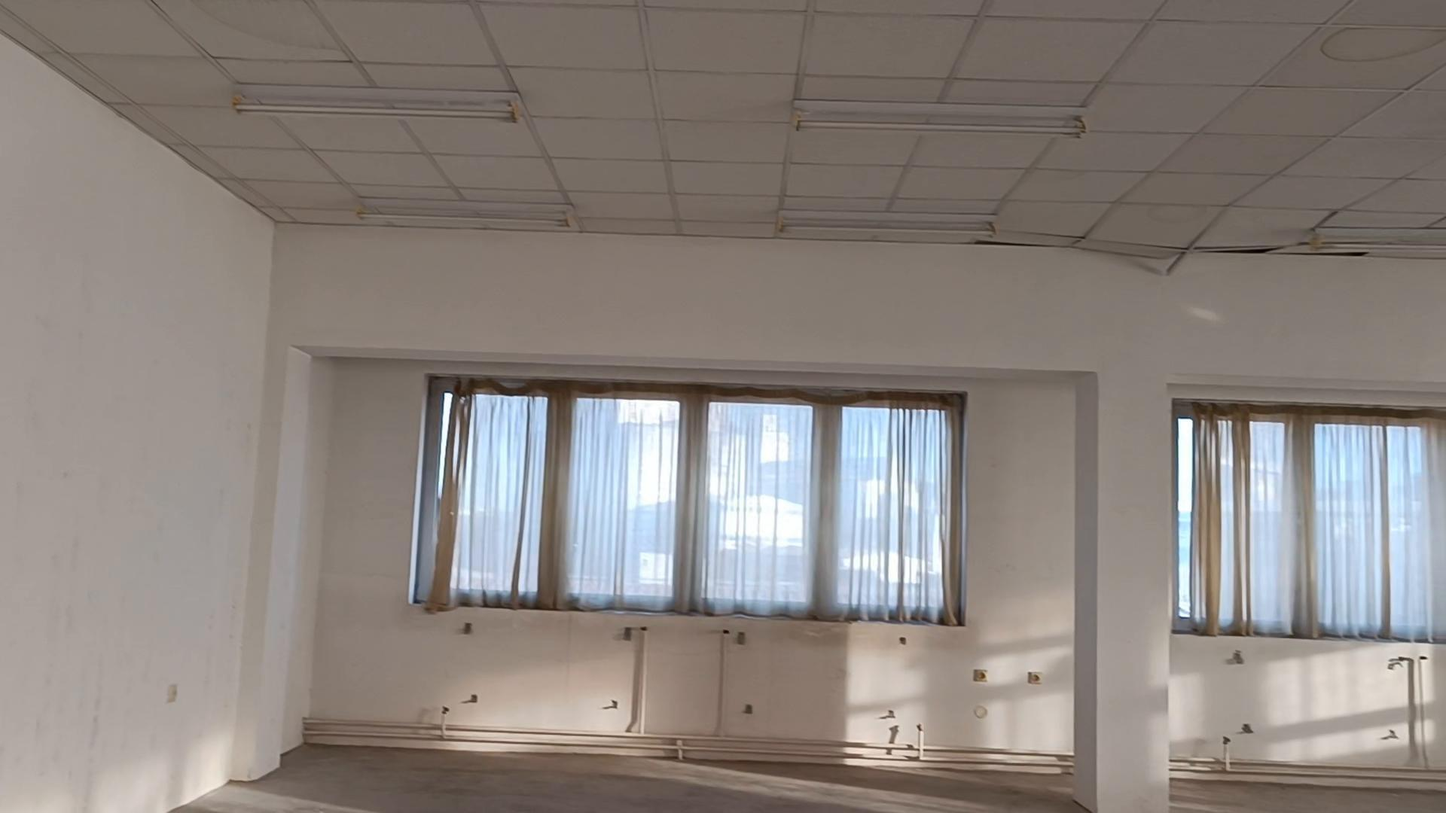ceiling: (0, 4, 1445, 257)
floor: (174, 745, 1084, 812), (1172, 769, 1445, 812)
wall: (0, 49, 1443, 812), (319, 370, 1073, 728)
